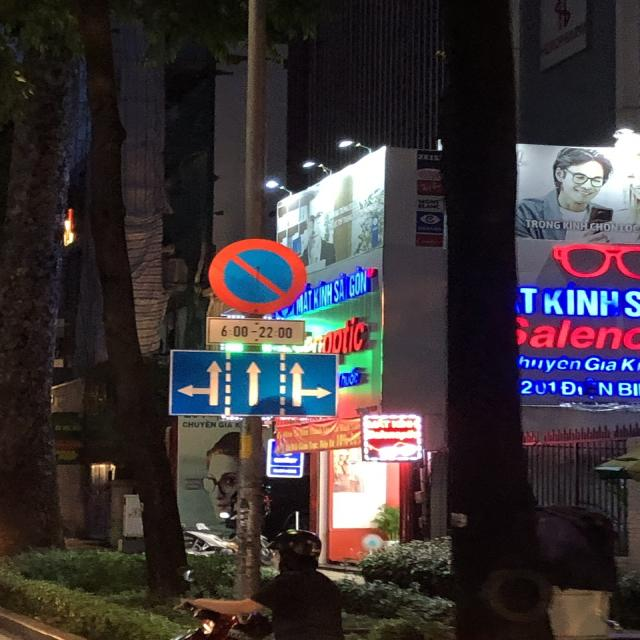Bien bao cam do xe: (203, 232, 308, 315)
